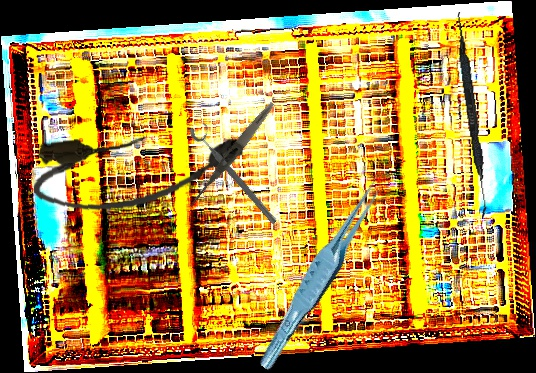Cannula: (30, 124, 247, 218)
Dressing Forceps: (186, 99, 278, 211)
Fixation Ring: (187, 118, 285, 228)
Spatula Surgical: (449, 11, 495, 219)
Tissue Forceps: (245, 174, 400, 373)
